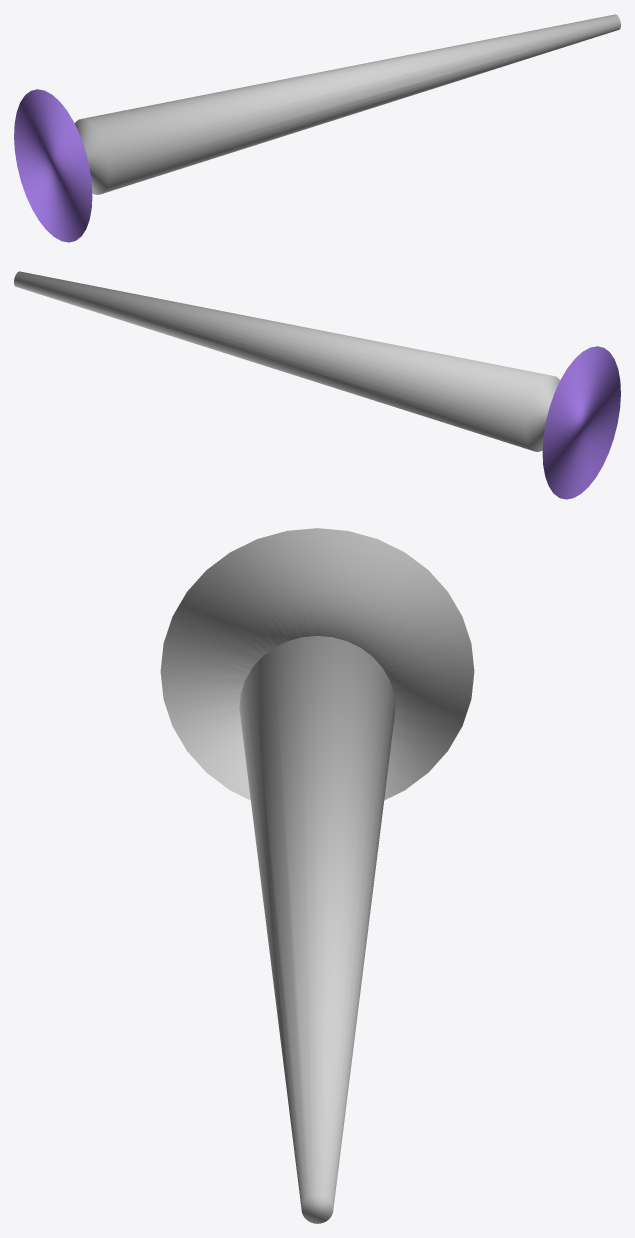
File: Plunger.obj
3 renders of one model, top to bottom at view 1: azimuth 30°, elevation 25°; view 2: azimuth 150°, elevation 25°; view 3: azimuth 270°, elevation 25°, orthographic. The views are drawn at different scales.
Parts seen in each view (by area): view 1: Plunger_Cylinder; view 2: Plunger_Cylinder; view 3: Plunger_Cylinder.
Boxes of the visible parts, left/top/right/bottom form: Plunger_Cylinder: left=14, top=14, right=620, bottom=242; Plunger_Cylinder: left=14, top=271, right=620, bottom=499; Plunger_Cylinder: left=160, top=528, right=474, bottom=1223.
Bounding box in the file's own units: 9.83 × 2.37 × 2.37.
